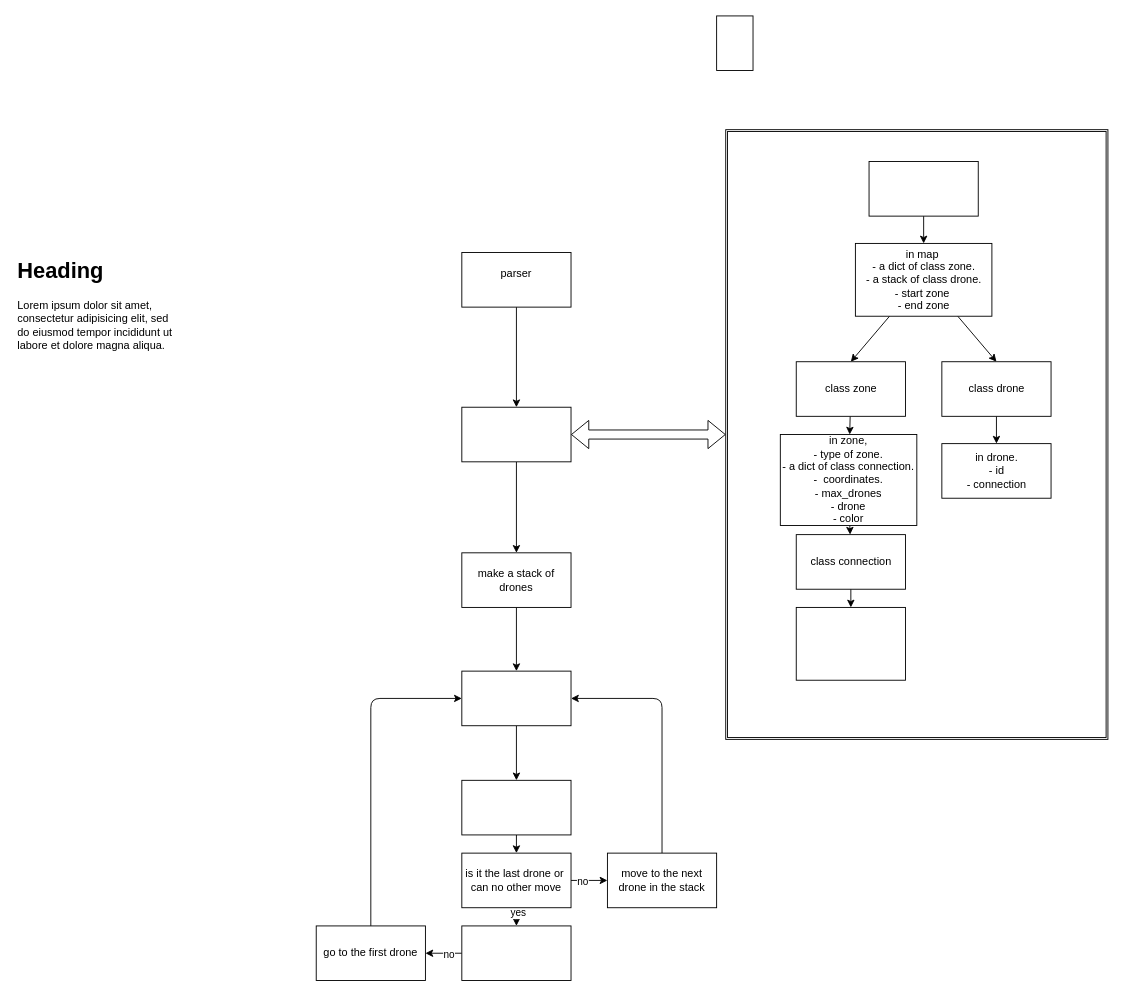
This 1124x996 diagram has some shape labels left out. Here are the shapes that lost their labels. From the top down, the box of each, then its label:
(868, 161, 978, 216): class map
(461, 406, 571, 462): make the map
(795, 607, 905, 680): in connection - zone a - zone b - drone max_link_capacity
(461, 670, 571, 726): find the shorte path for that drone
(461, 779, 571, 835): move
(461, 925, 571, 981): are all drones at the end
